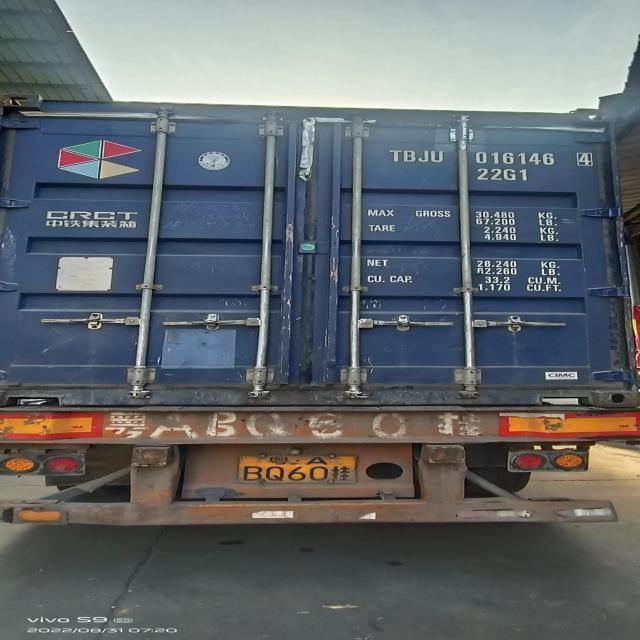ISO: (482, 168, 530, 184)
container_number: (394, 148, 597, 168)
